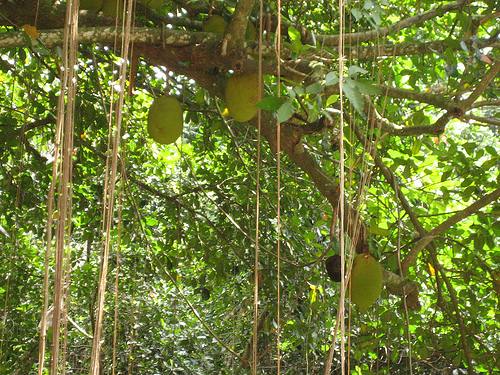jackfruit: (222, 64, 269, 124), (341, 255, 388, 314), (146, 95, 186, 145)
